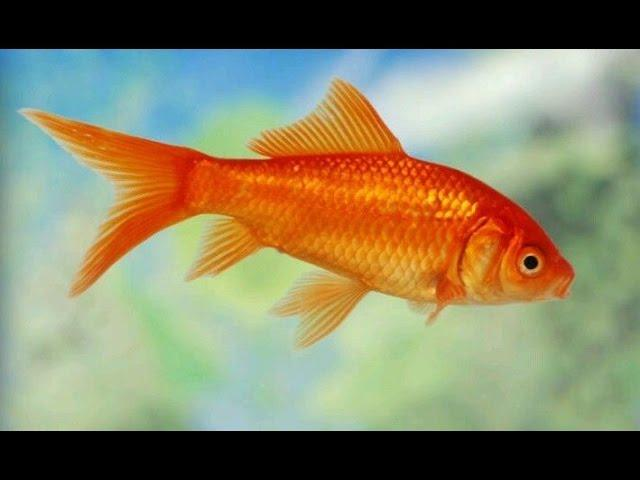Gold Fish: (18, 74, 579, 354)
